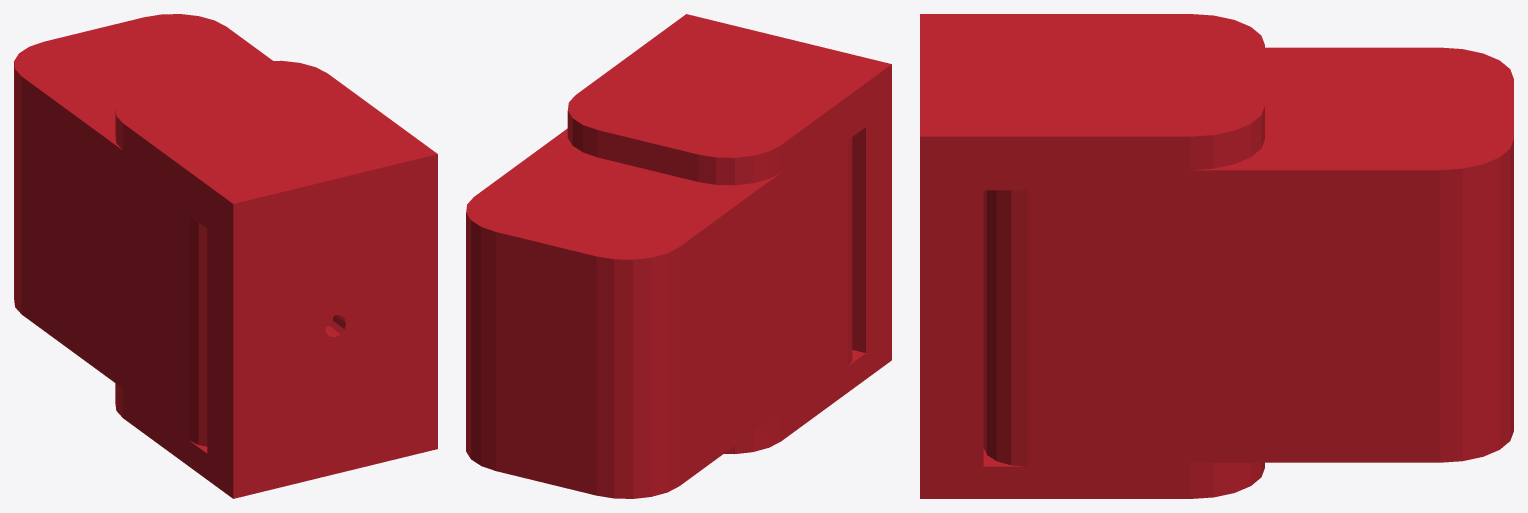
Rendered from 9_thumb.obj.
The picture shows the model from 3 angles, left to right: view 1: azimuth 30°, elevation 25°; view 2: azimuth 150°, elevation 25°; view 3: azimuth 270°, elevation 25°; orthographic projection. The views are drawn at different scales.
Parts seen in each view (by area): view 1: 9_thumb; view 2: 9_thumb; view 3: 9_thumb.
Part boxes in pixels (x1,y1,x2,y2): 9_thumb: (14, 14, 437, 498); 9_thumb: (466, 14, 891, 498); 9_thumb: (920, 14, 1513, 498).
Bounding box in the file's own units: 0.0196 × 0.027 × 0.0401.
